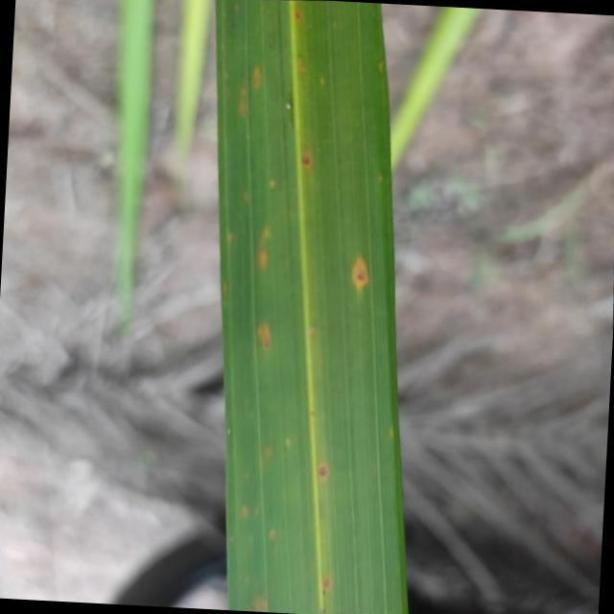Kalium: (214, 1, 412, 614)
